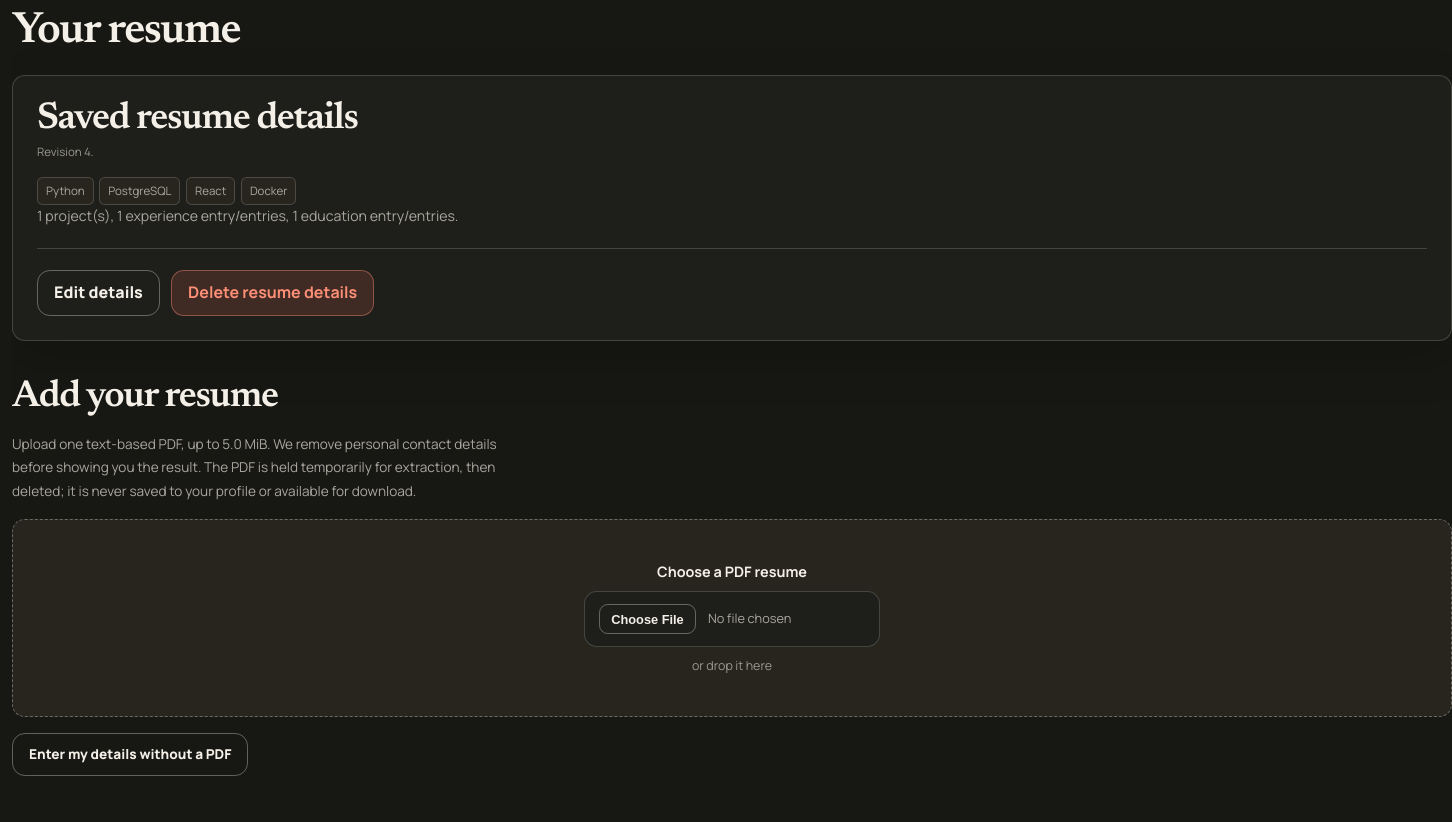
Test: uncertain delete outcomes › reports a confirmed delete as a successful revision update
Expected: the element with test id "saved-profile" is shown, [12,75,1451,341]
Click the button "Delete resume details" at [273, 293], box [171,270,374,316]
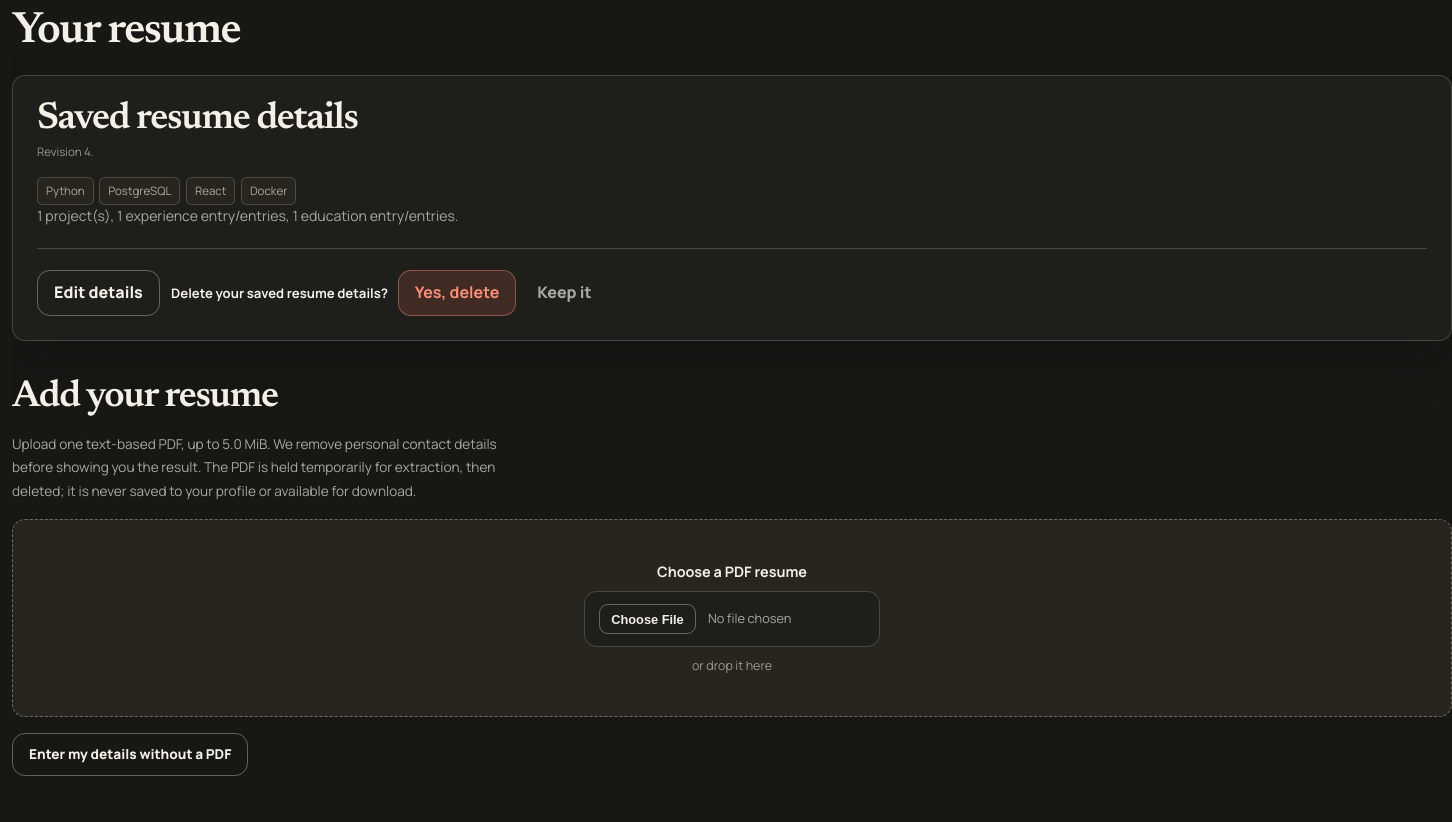
Click the button "Yes, delete" at [457, 293], box [398,270,516,316]
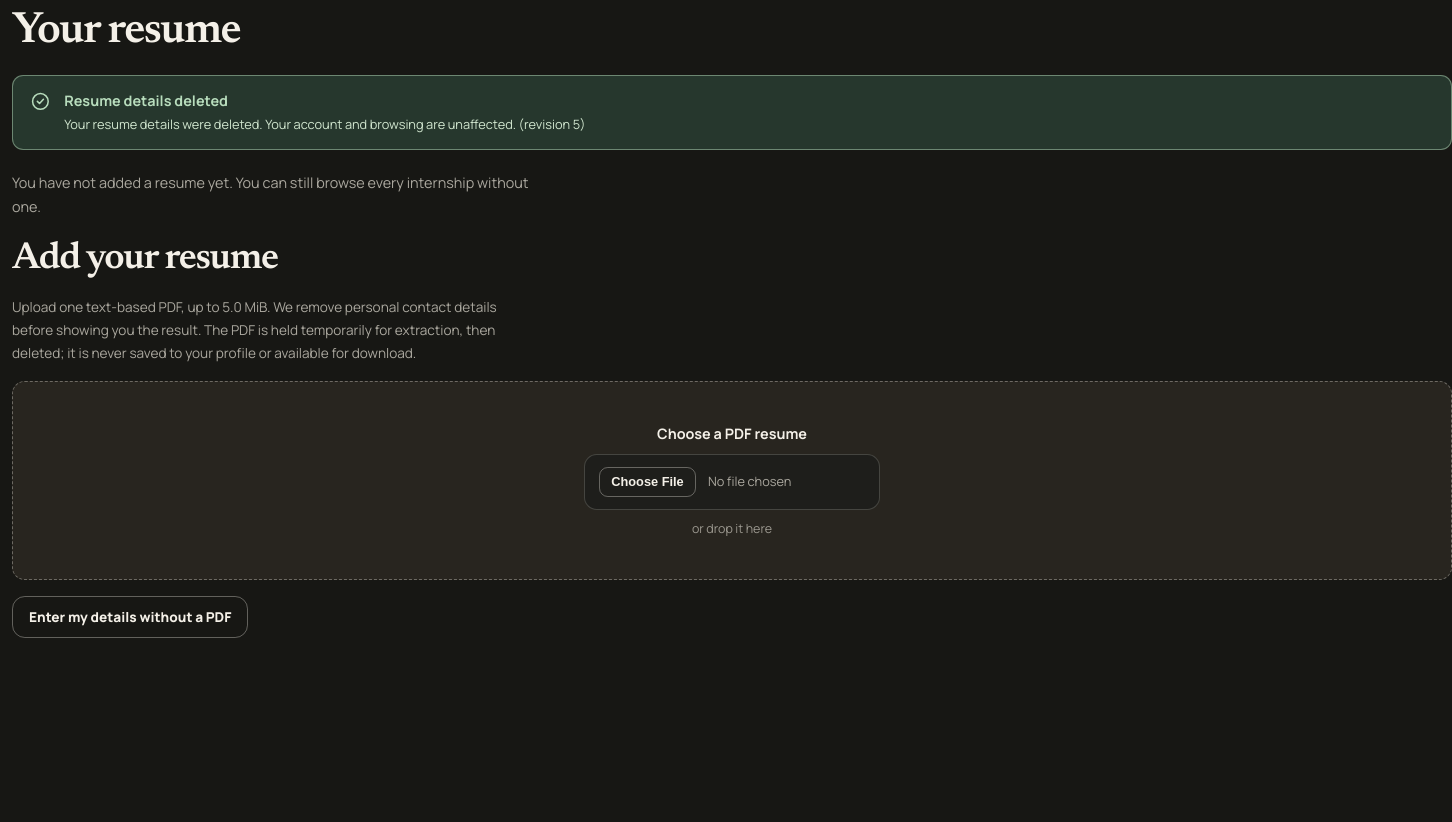
Expected: the text with test id "no-resume-state" is shown, [12,171,556,220]
Expected: the message with test id "save-status" shows "Resume details deleted", [64,91,228,110]
Expected: the message with test id "save-status" shows "revision 5", [64,115,586,133]
